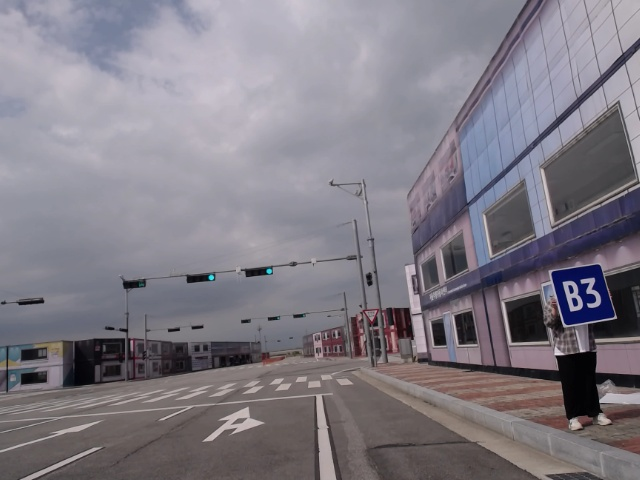delivery_b3: (548, 267, 617, 327)
straight_green_4: (242, 265, 276, 279), (184, 273, 217, 284), (266, 315, 282, 322), (291, 313, 307, 318)
